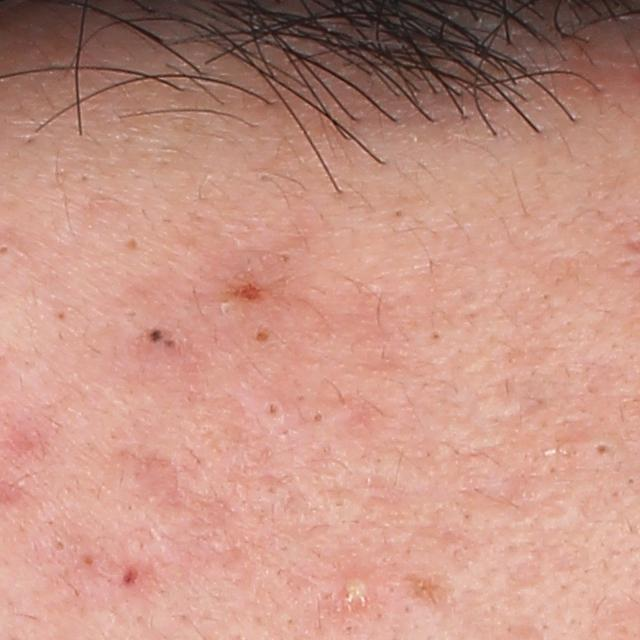comedo: (593, 443, 611, 458), (252, 328, 269, 343), (266, 401, 280, 419), (125, 237, 139, 253), (53, 310, 67, 325), (429, 330, 443, 344), (164, 339, 177, 352), (313, 411, 324, 426), (392, 207, 403, 221)
pustule: (331, 565, 379, 611)
